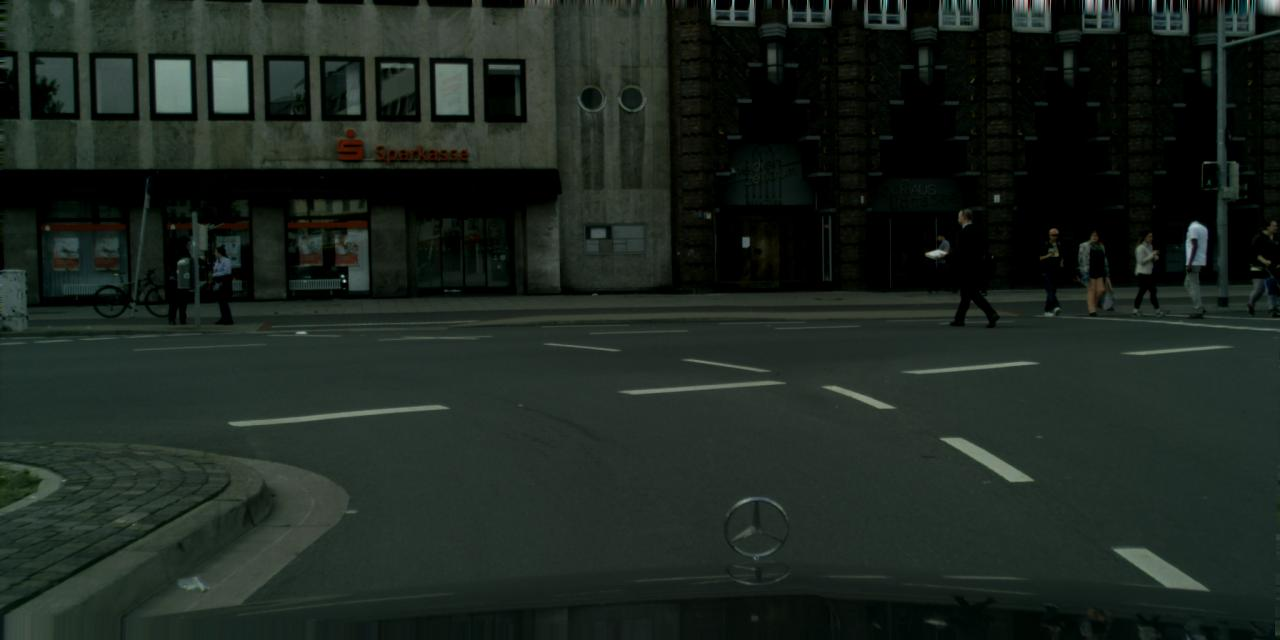ped: (947, 209, 994, 324), (1172, 208, 1216, 315), (1246, 217, 1279, 316), (1034, 227, 1070, 314), (164, 235, 199, 324), (1130, 230, 1166, 316), (1077, 229, 1110, 312), (207, 246, 239, 324), (958, 230, 984, 294), (930, 232, 956, 293)
